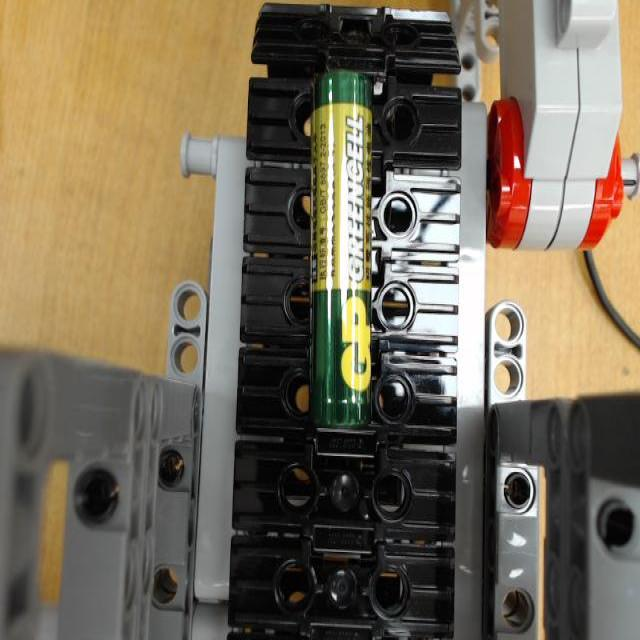AAA: (305, 70, 372, 422)
